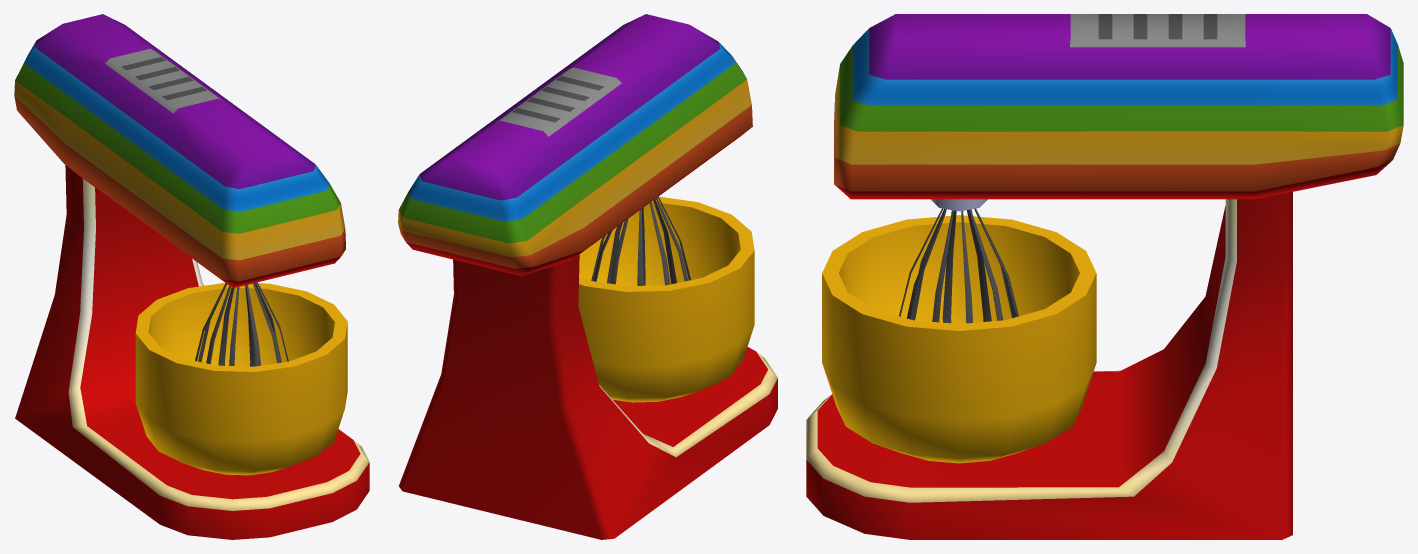
File: Station Rainbow Cake.fbx
3 views of the same model, side by side, from view 1: azimuth 30°, elevation 25°; view 2: azimuth 150°, elevation 25°; view 3: azimuth 270°, elevation 25° (orthographic). The views are drawn at different scales.
Parts seen in each view (by area): view 1: Station_Rainbow_Cake_Machine; view 2: Station_Rainbow_Cake_Machine; view 3: Station_Rainbow_Cake_Machine.
Boxes of the visible parts, bbox=[...] form: Station_Rainbow_Cake_Machine: bbox=[14, 14, 369, 539]; Station_Rainbow_Cake_Machine: bbox=[398, 14, 777, 539]; Station_Rainbow_Cake_Machine: bbox=[806, 14, 1403, 539].
Bounding box in the file's own units: 101 × 168 × 202.
